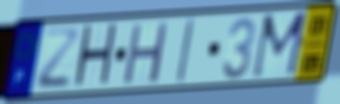3: (222, 15, 257, 81)
H: (71, 21, 120, 93), (120, 19, 171, 87)
I: (174, 15, 197, 86)
M: (248, 9, 312, 82)
Z: (34, 28, 82, 92)
